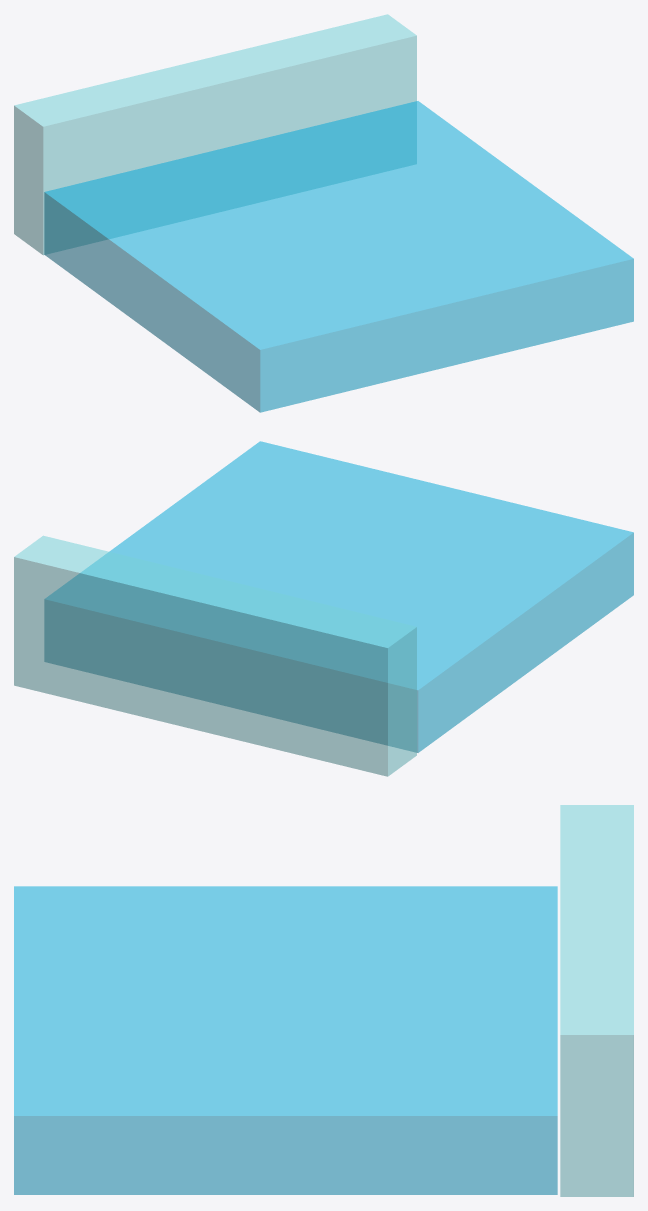
The model's file is finish_platform.glb.
The picture shows the model from 3 angles, top to bottom: view 1: azimuth 30°, elevation 25°; view 2: azimuth 150°, elevation 25°; view 3: azimuth 270°, elevation 25°; orthographic projection. The views are drawn at different scales.
Parts seen in each view (by area): view 1: newPlatform; view 2: newPlatform; view 3: newPlatform.
Part boxes in pixels (<box>): newPlatform: <box>14,14,633,412</box>; newPlatform: <box>14,441,633,776</box>; newPlatform: <box>14,805,633,1196</box>.
Size of what is drawn, in the model's own units: 3 by 0.9864 by 3.42.
Materials: 1 (1 with a texture image).
